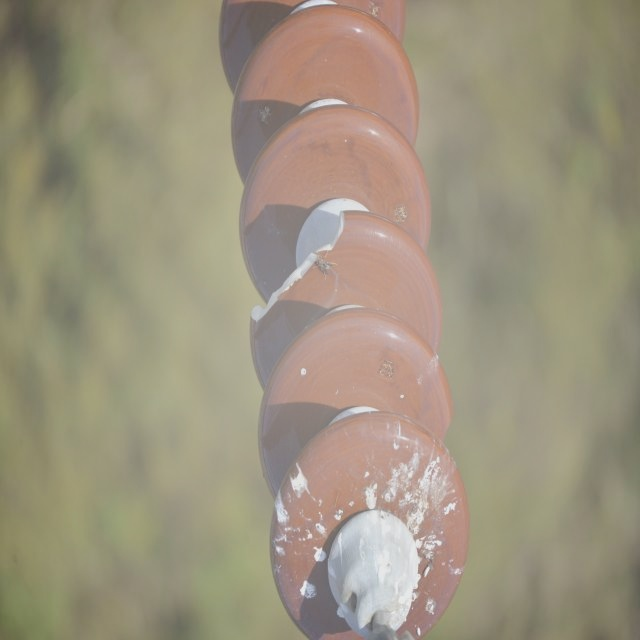broken: (250, 208, 350, 324)
insulator: (216, 0, 471, 639)
